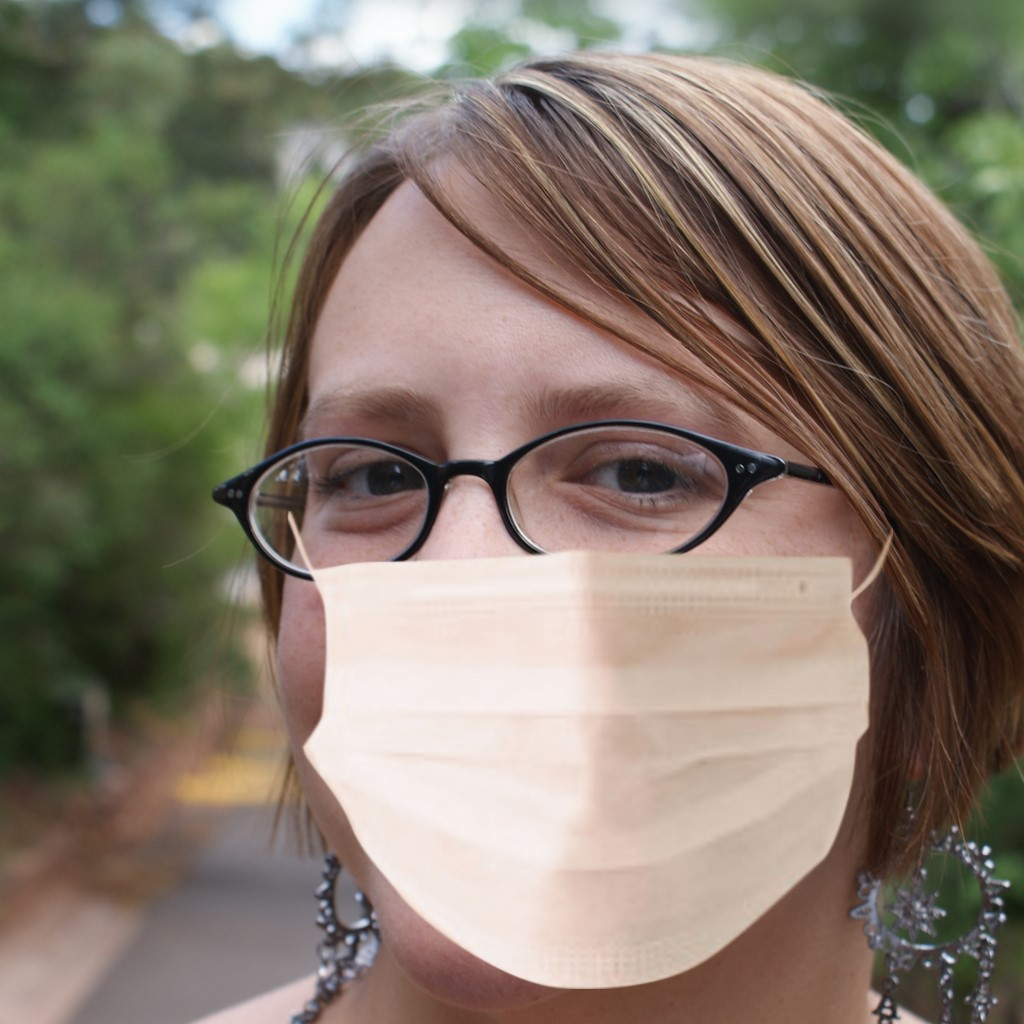con_mascara: (237, 80, 947, 976)
